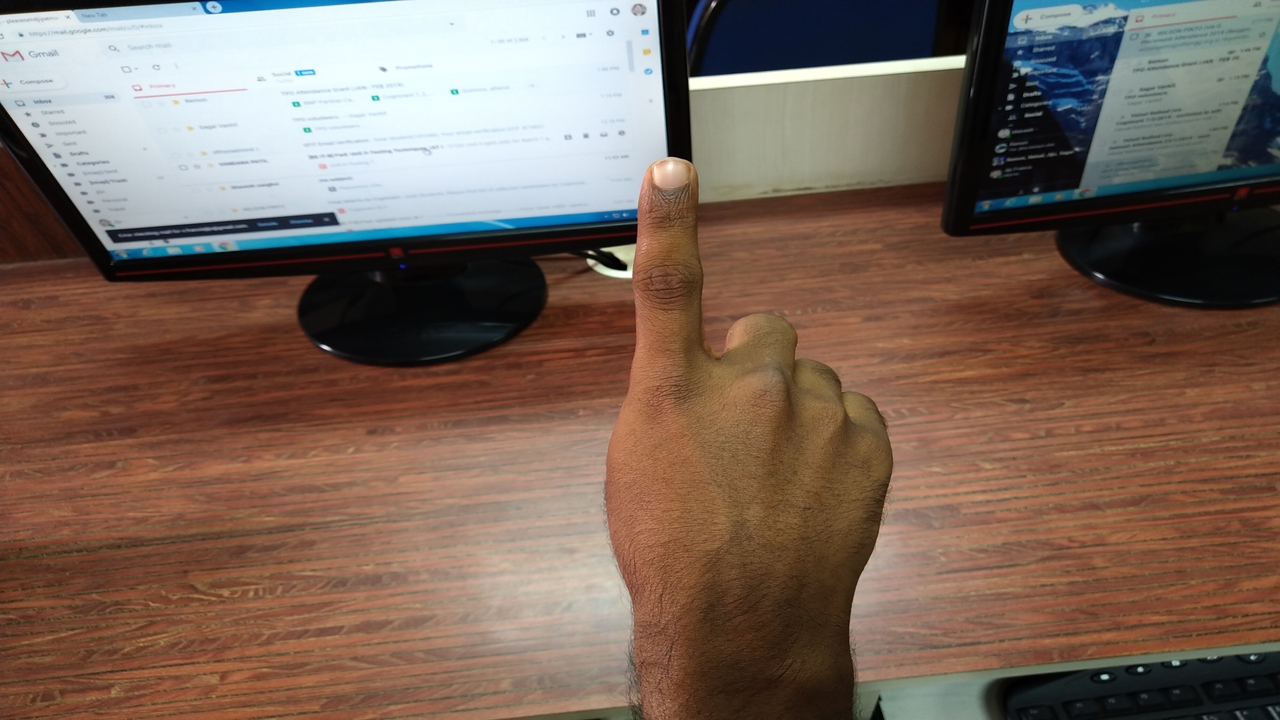fingertip: (640, 150, 698, 202)
